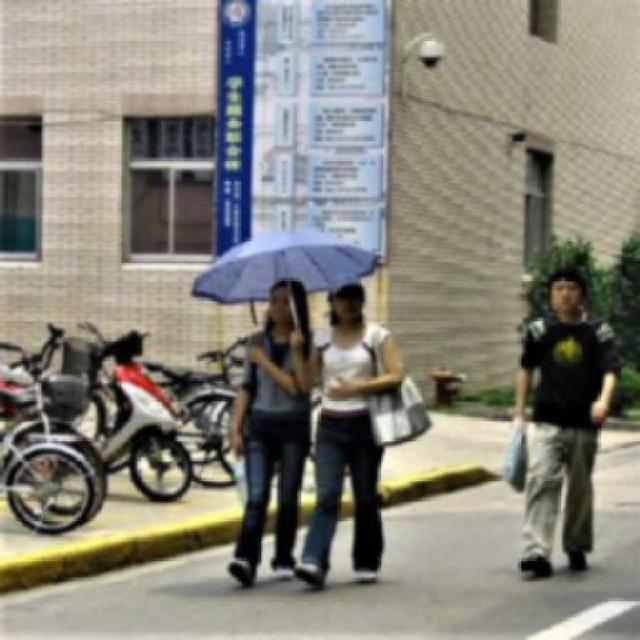Person: (512, 262, 622, 581), (299, 276, 401, 584), (228, 275, 309, 587)
